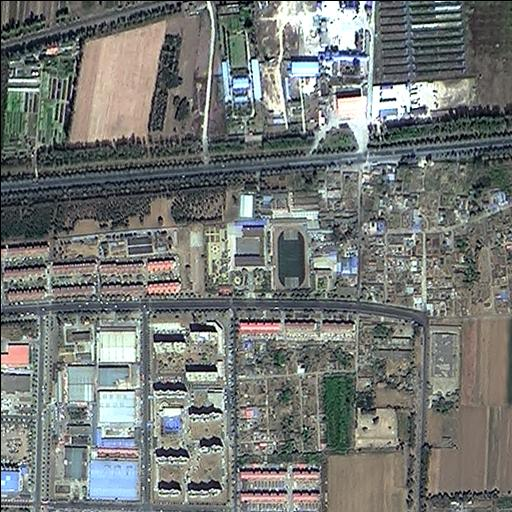school: (201, 215, 314, 297)
